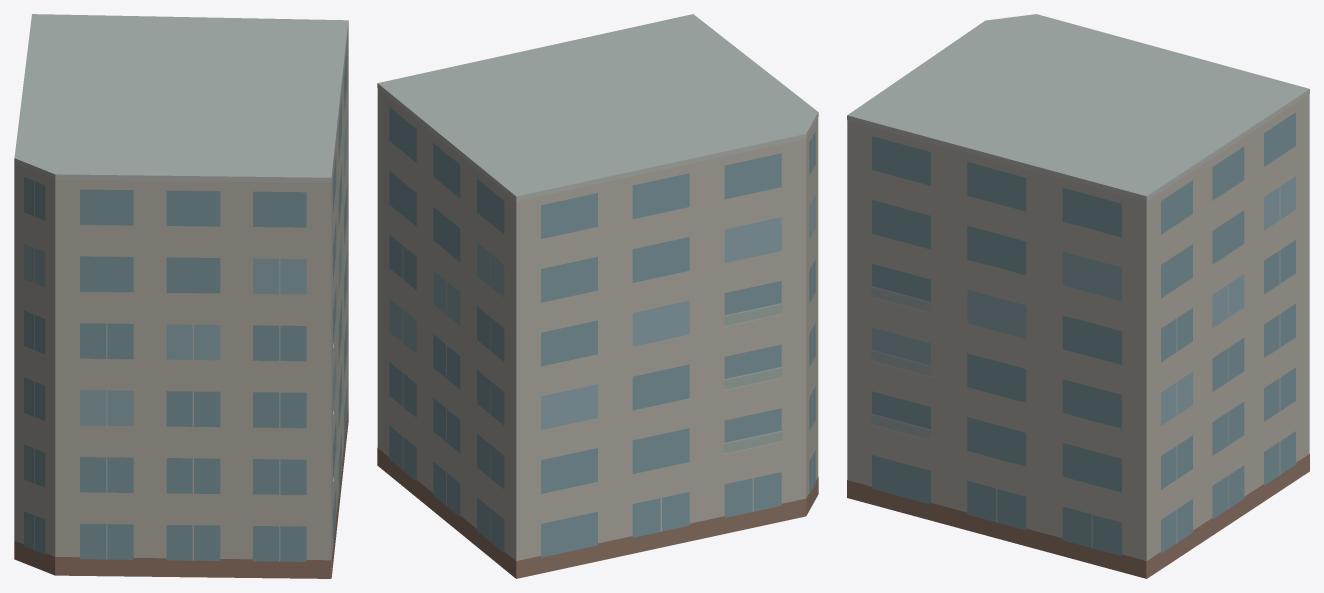
The model's file is survey-upis-32880153.glb.
The picture shows the model from 3 angles, left to right: view 1: azimuth 30°, elevation 25°; view 2: azimuth 150°, elevation 25°; view 3: azimuth 270°, elevation 25°; orthographic projection. The views are drawn at different scales.
Visible parts, largest first — view 1: survey-upis-32880153.tmp; view 2: survey-upis-32880153.tmp; view 3: survey-upis-32880153.tmp.
Boxes of the visible parts, x1=… form: survey-upis-32880153.tmp: x1=14, y1=14, x2=348, y2=578; survey-upis-32880153.tmp: x1=377, y1=14, x2=818, y2=578; survey-upis-32880153.tmp: x1=847, y1=14, x2=1309, y2=578.
Size of the model in its own units: 19.02 by 18.6 by 20.4.
